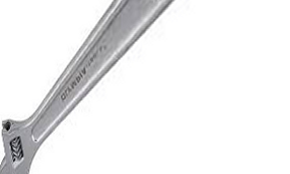Wrench: (2, 1, 178, 174)
